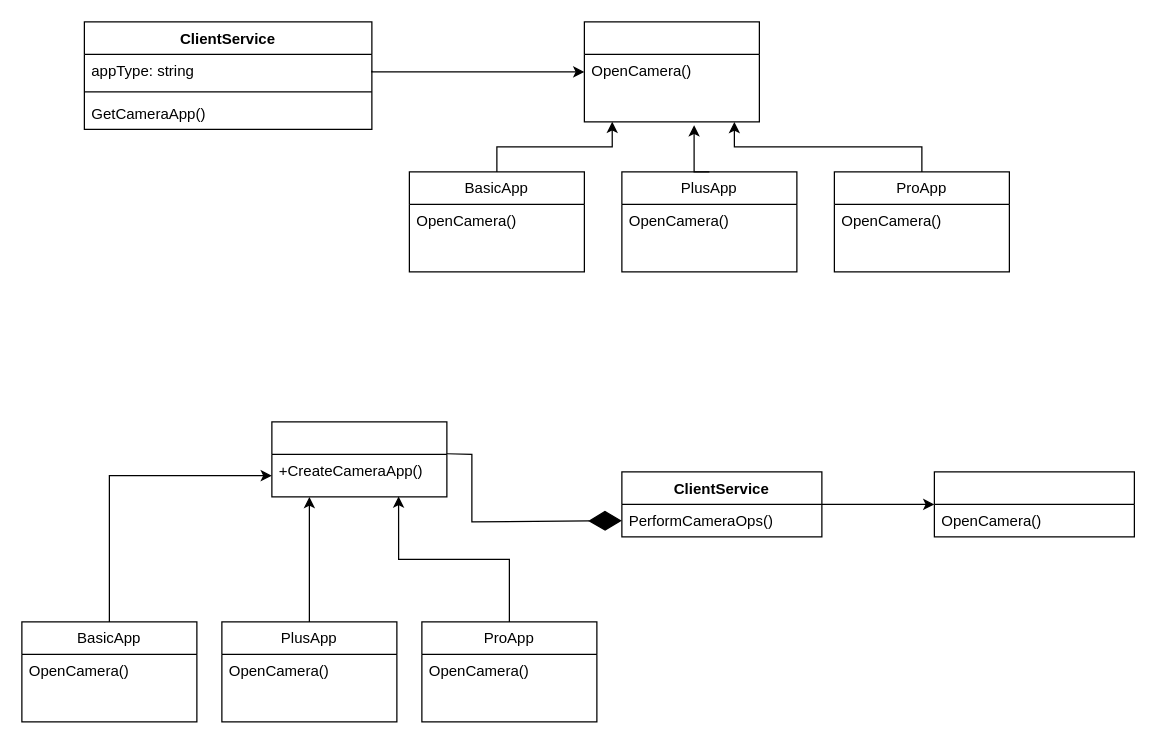
The diagram is 1156 pixels wide and 748 high, and some of its shapes have lost their labels. Each missing label, with the box of its shape:
CameraFactory: (271, 421, 447, 497)
ICamera: (933, 471, 1134, 537)
PhoneCameraApp: (583, 21, 759, 122)
